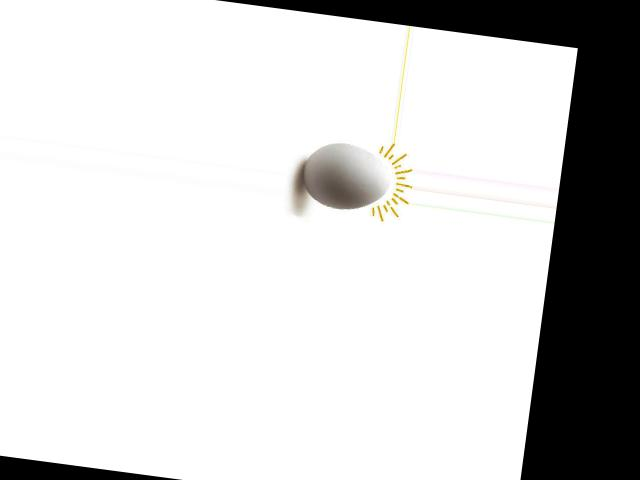egg: (299, 137, 393, 214)
